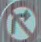Don't turn right: (1, 4, 40, 40)
